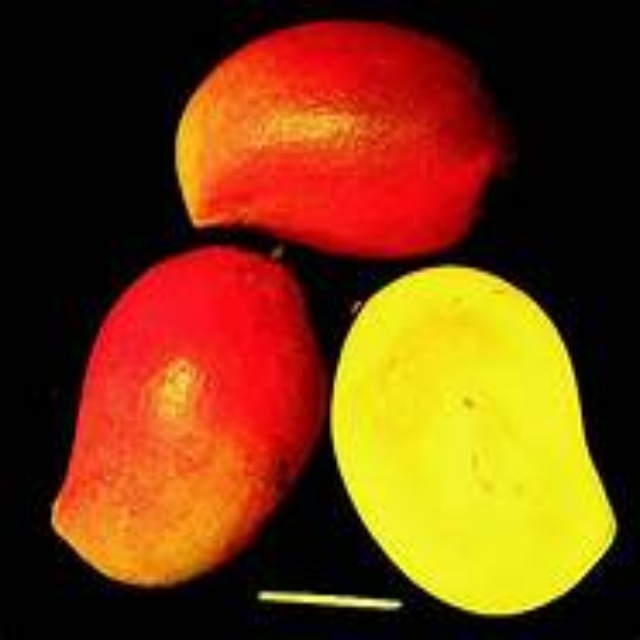mango: (339, 270, 617, 615), (60, 251, 331, 585), (179, 28, 503, 260)
